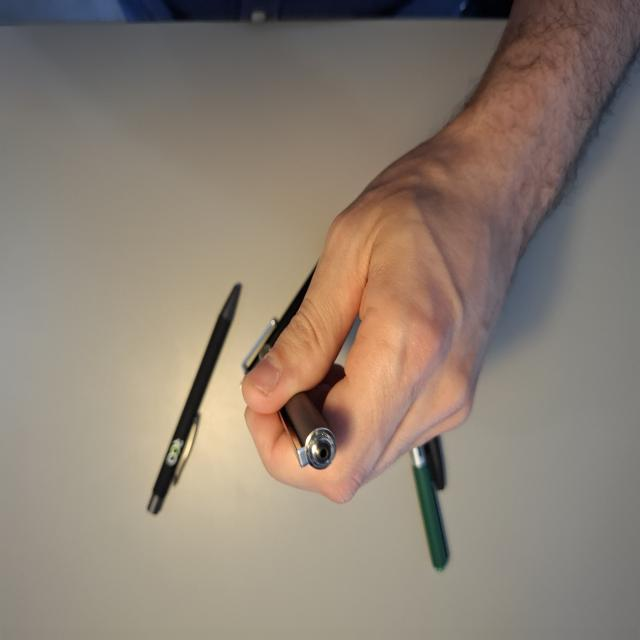glove_off: (239, 134, 527, 506)
